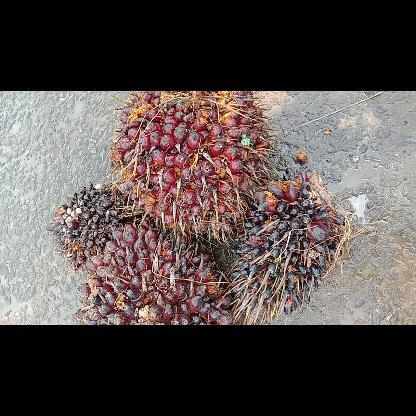Kurang masak: (76, 214, 236, 324)
TBS abnormal: (237, 168, 346, 314), (44, 182, 136, 268)
TBS masak: (112, 92, 270, 240)
